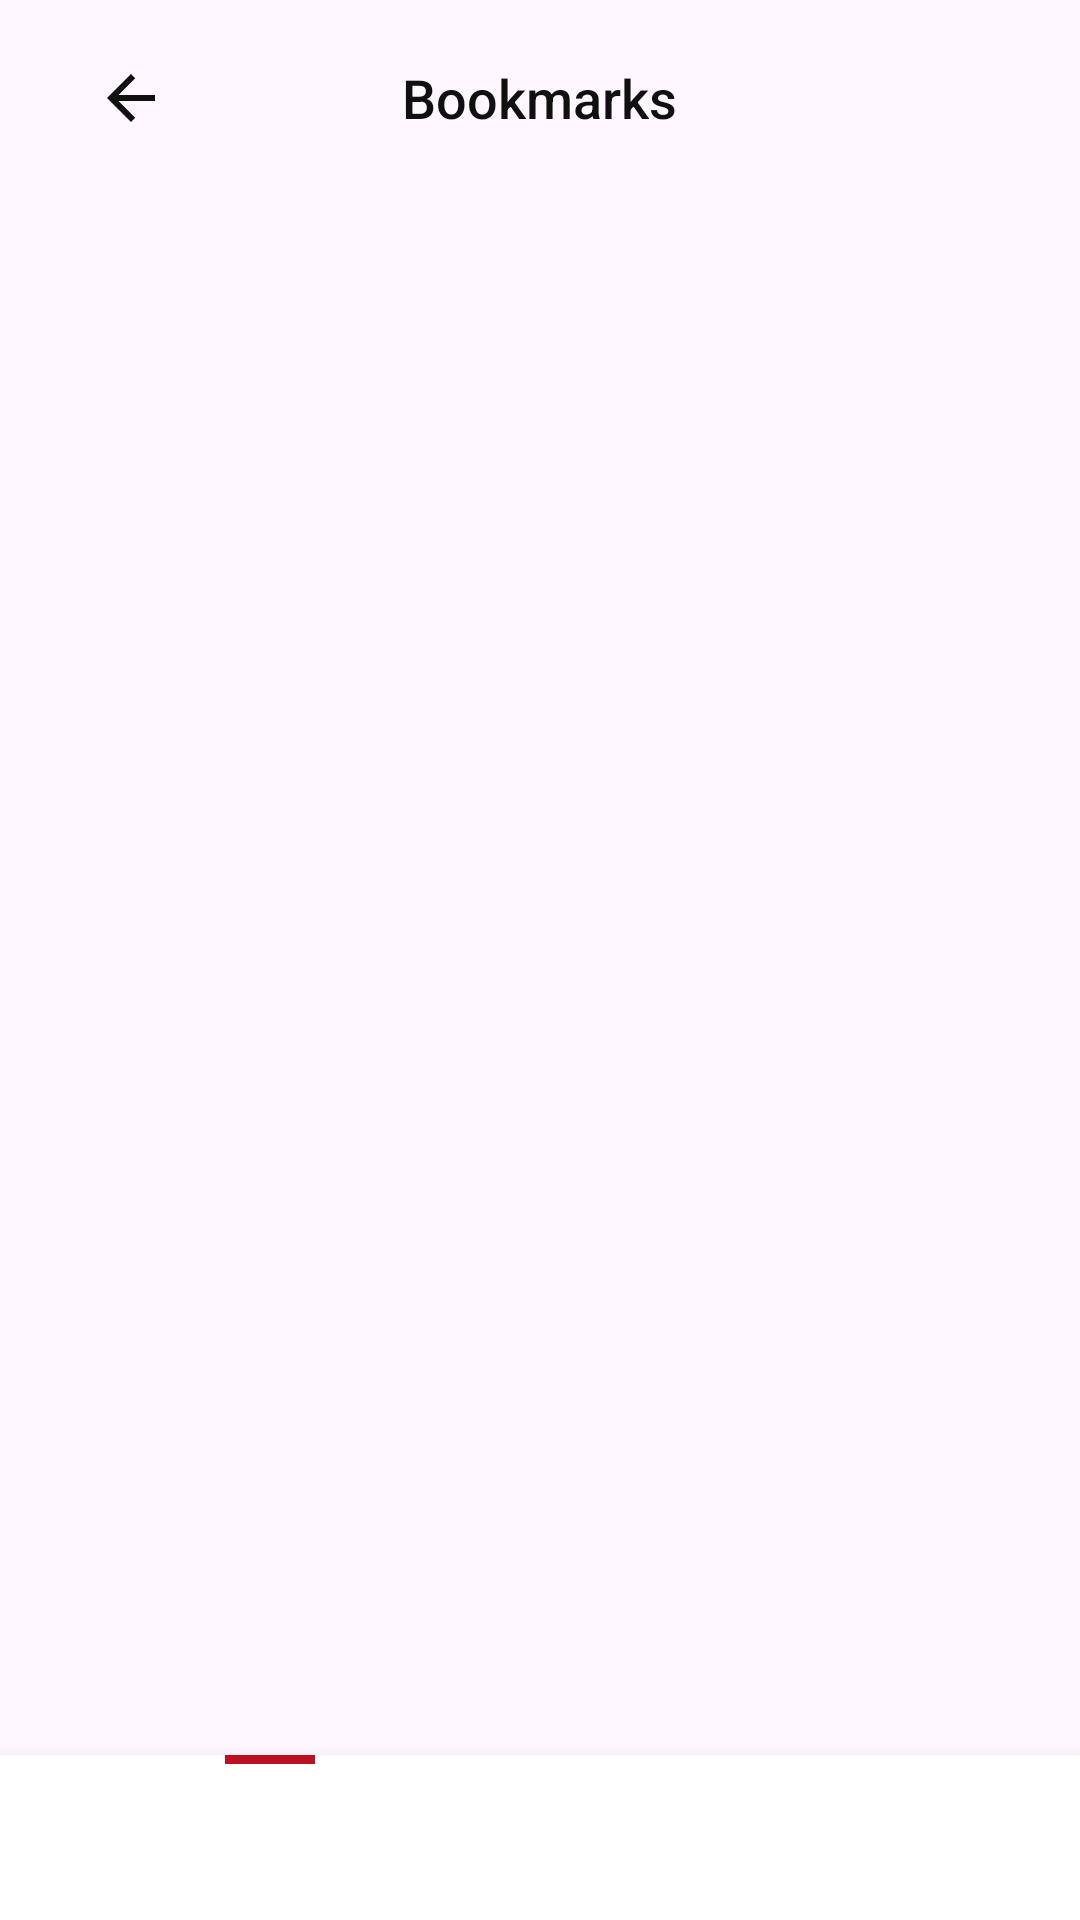

Locate icon controls on the screen. Image size 1080px x 1920px, boxes as region(x1, y1, x2, y2).
back: region(107, 74, 155, 122)
